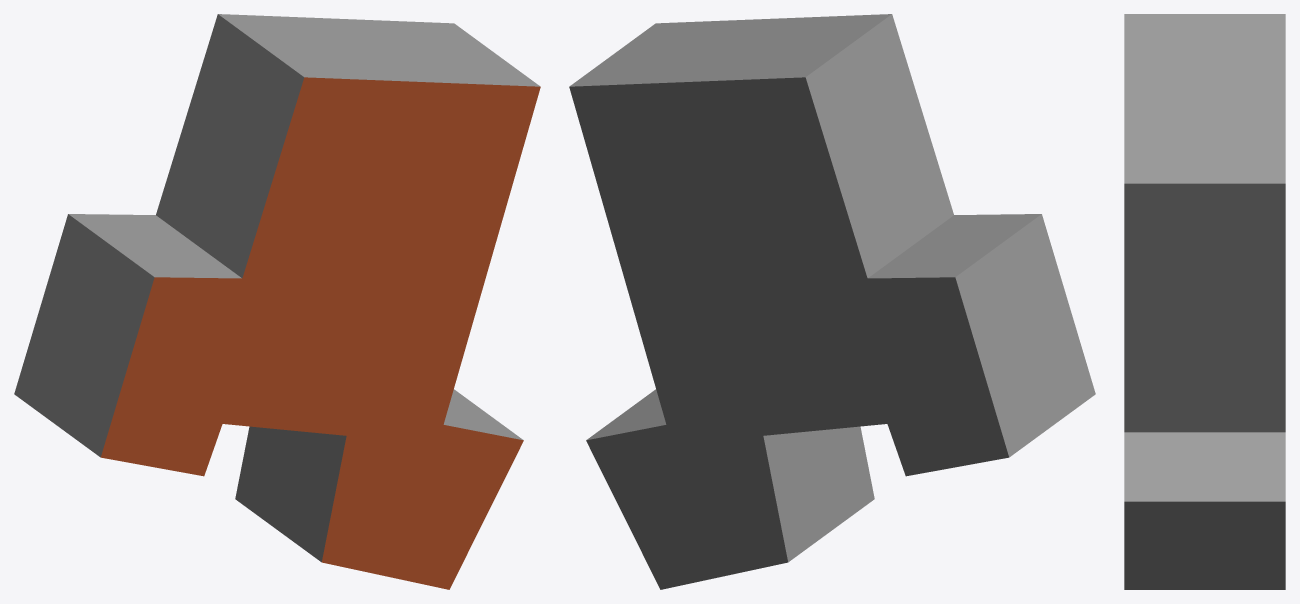
File: construction_5905_assumed_A_Casa_h6m.obj
The picture shows the model from 3 angles, left to right: view 1: azimuth 30°, elevation 25°; view 2: azimuth 150°, elevation 25°; view 3: azimuth 270°, elevation 25°; orthographic projection. The views are drawn at different scales.
Parts seen in each view (by area): view 1: construction_5905_assumed_A_Casa; view 2: construction_5905_assumed_A_Casa; view 3: construction_5905_assumed_A_Casa.
Boxes of the visible parts, x1,y1,x2,y2 form: construction_5905_assumed_A_Casa: (14,14,540,589); construction_5905_assumed_A_Casa: (569,14,1095,589); construction_5905_assumed_A_Casa: (1124,14,1285,589).
Bounding box in the file's own units: 17.62 × 20.96 × 6.
